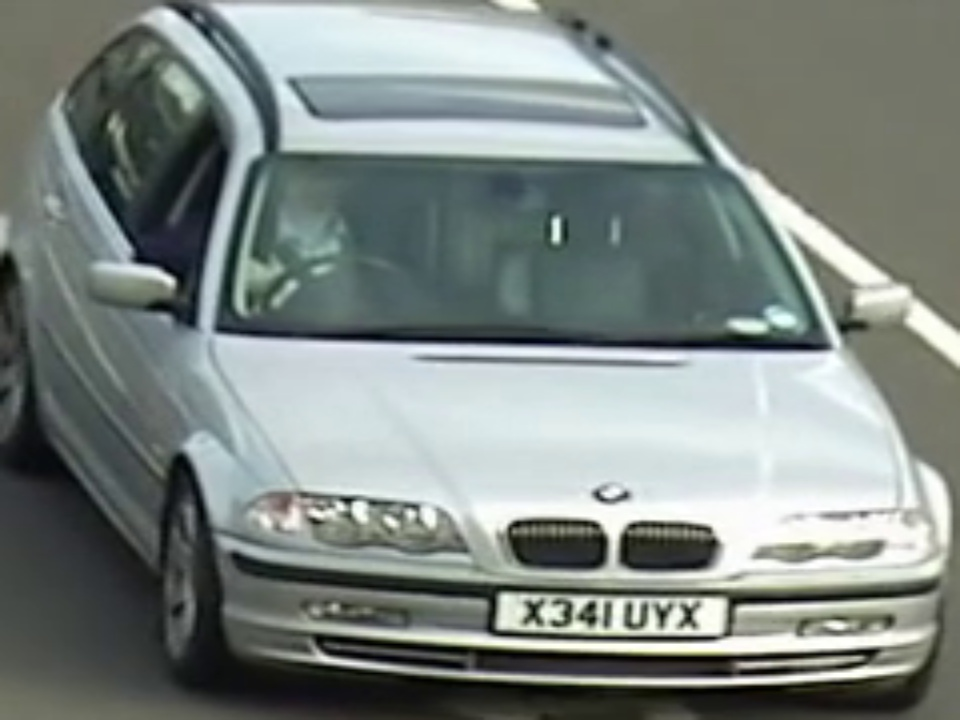ONE: (239, 151, 810, 358)
